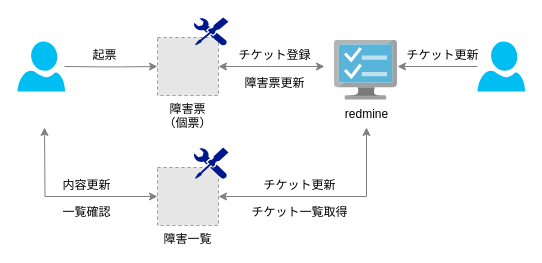
This 542x263 diagram has some shape labels left out. Grey dashed boxes stand in for pictures. The shapes that lost their labels are listed below. From the top down, each one's centre as x and y in pixels, then its label:
At point (40, 66): "顧客".
At point (500, 66): "SE".
